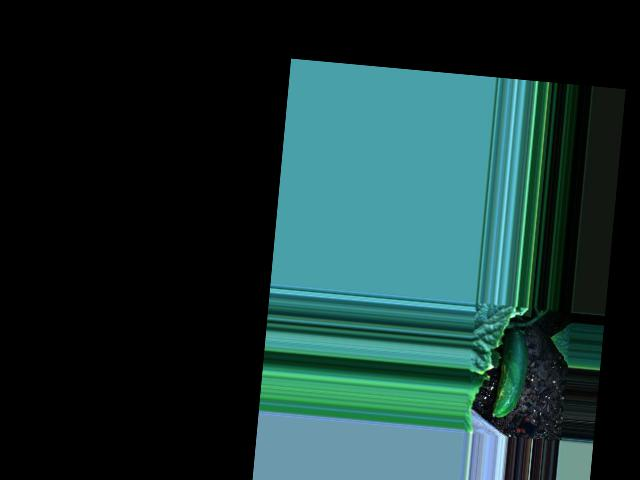cucumber: (491, 328, 530, 420)
